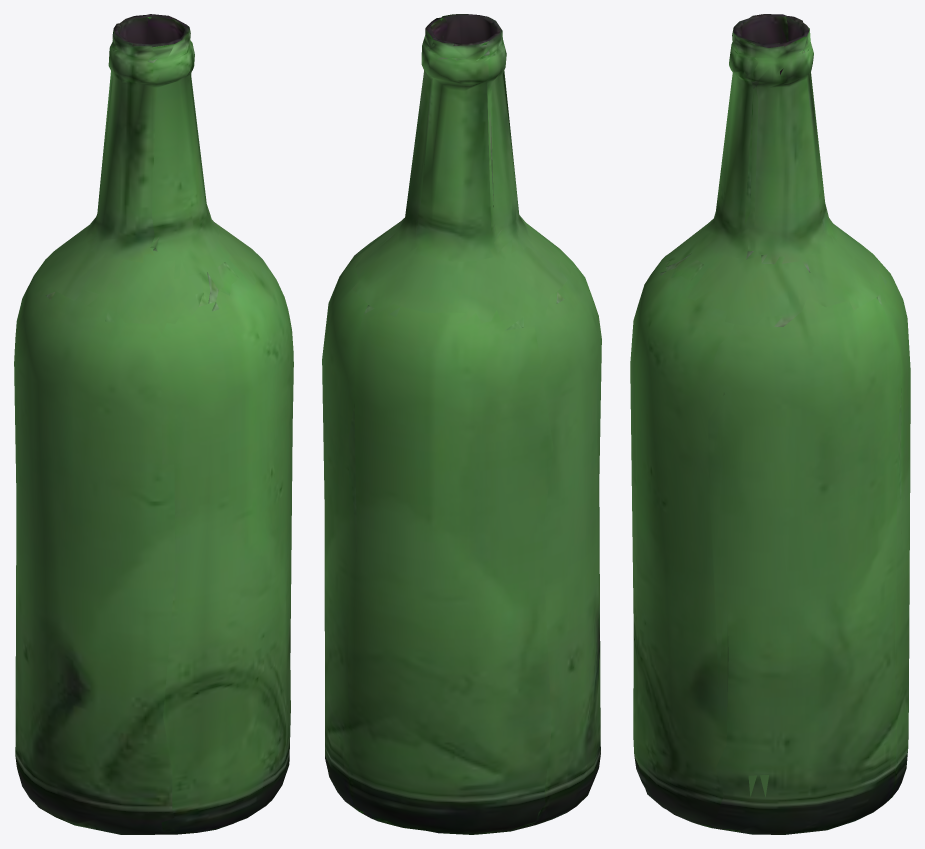
Rendered from bottle.glb.
3 views of the same model, side by side, from view 1: azimuth 30°, elevation 25°; view 2: azimuth 150°, elevation 25°; view 3: azimuth 270°, elevation 25° (orthographic).
Size of the model in its own units: 0.3382 by 1 by 0.3378.
Materials: 1 (1 with a texture image).
